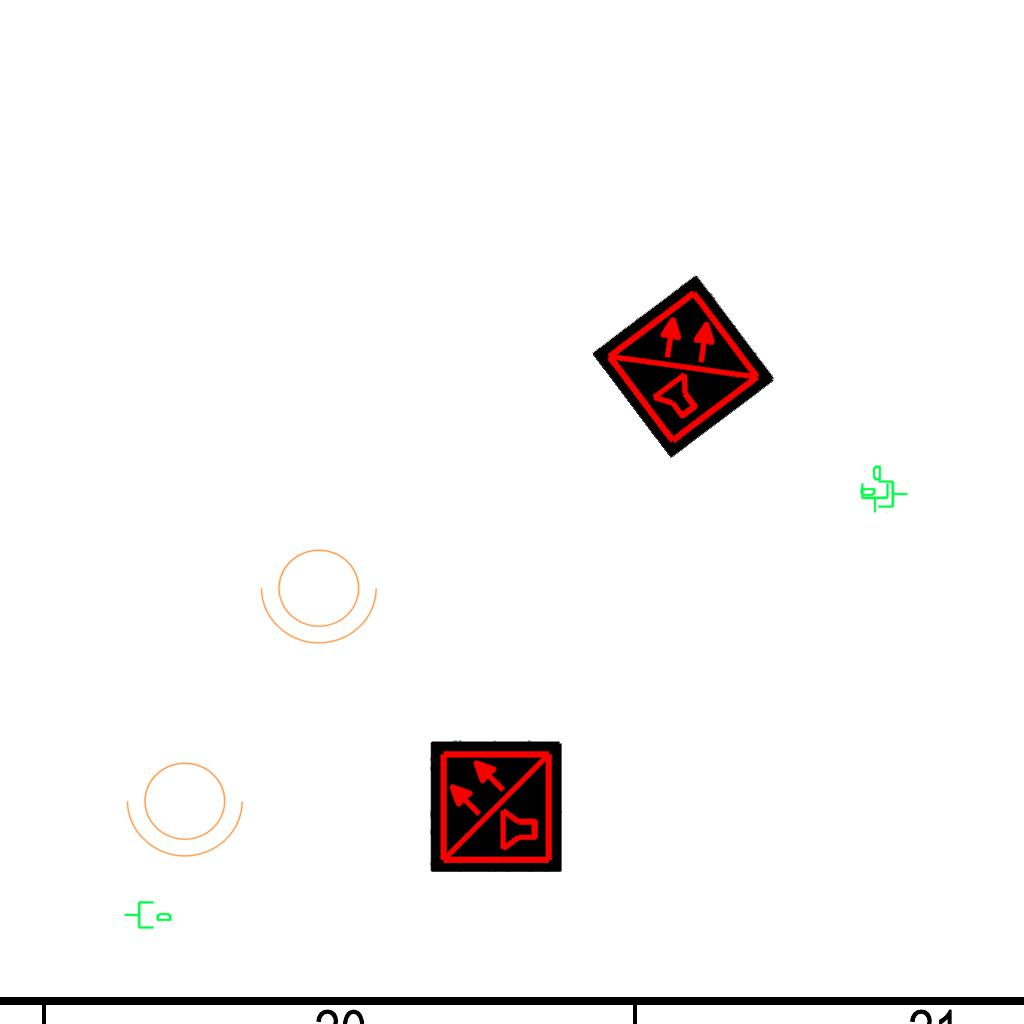Datenanschluss_einfach: (857, 464, 891, 514), (123, 897, 173, 931), (859, 478, 909, 512)
OKW_Multisensormelder_(Kombination_optischer_Rauch-Kahlenmonoxid_Waerme-Melder): (591, 273, 777, 459), (430, 740, 562, 872)
Scheinwerfer_fuer_Alarmbeleuchtung: (256, 537, 388, 649), (122, 750, 254, 862)
